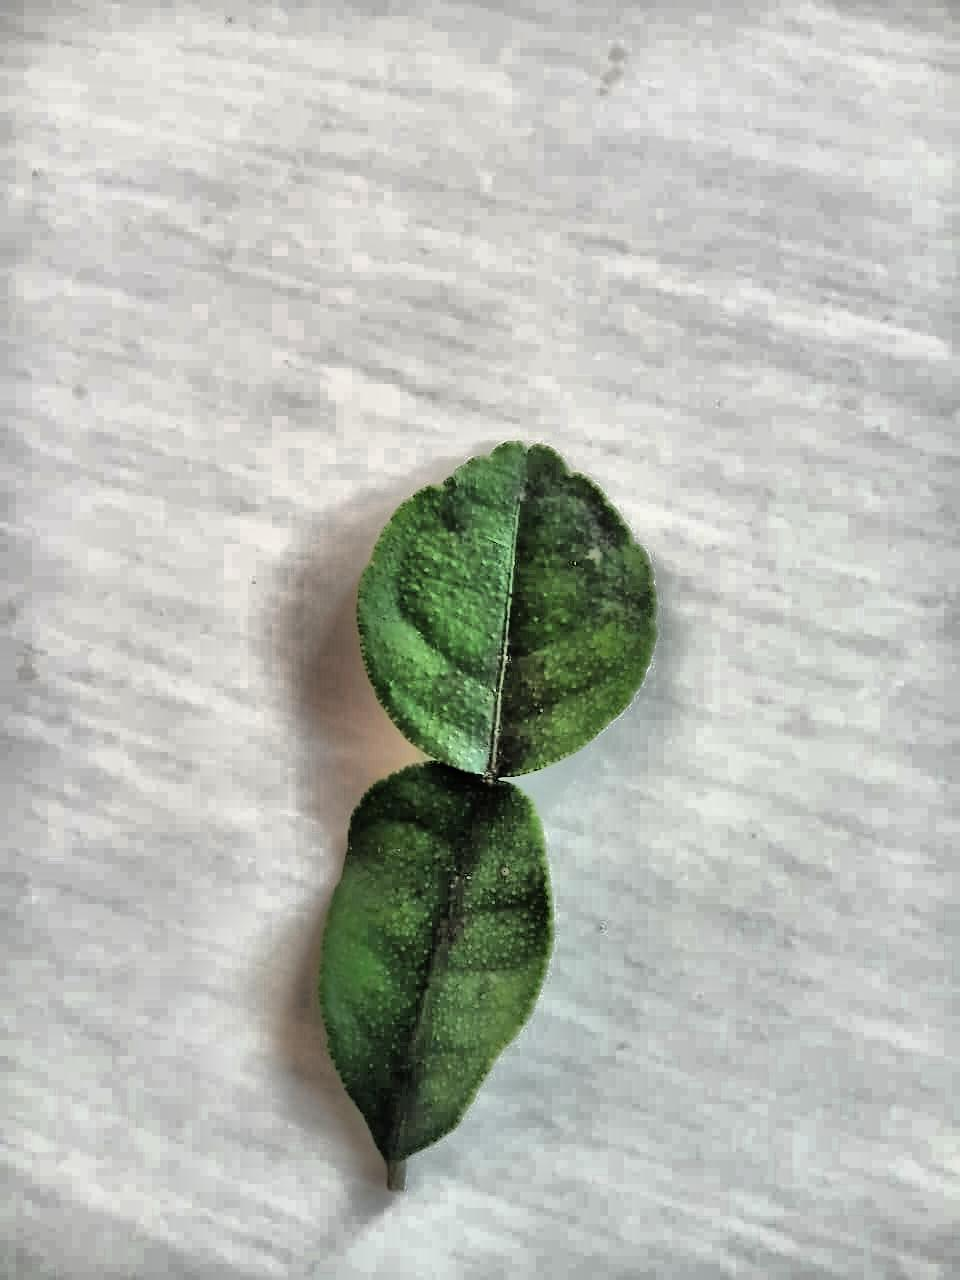daun jeruk: (318, 443, 656, 1189)
